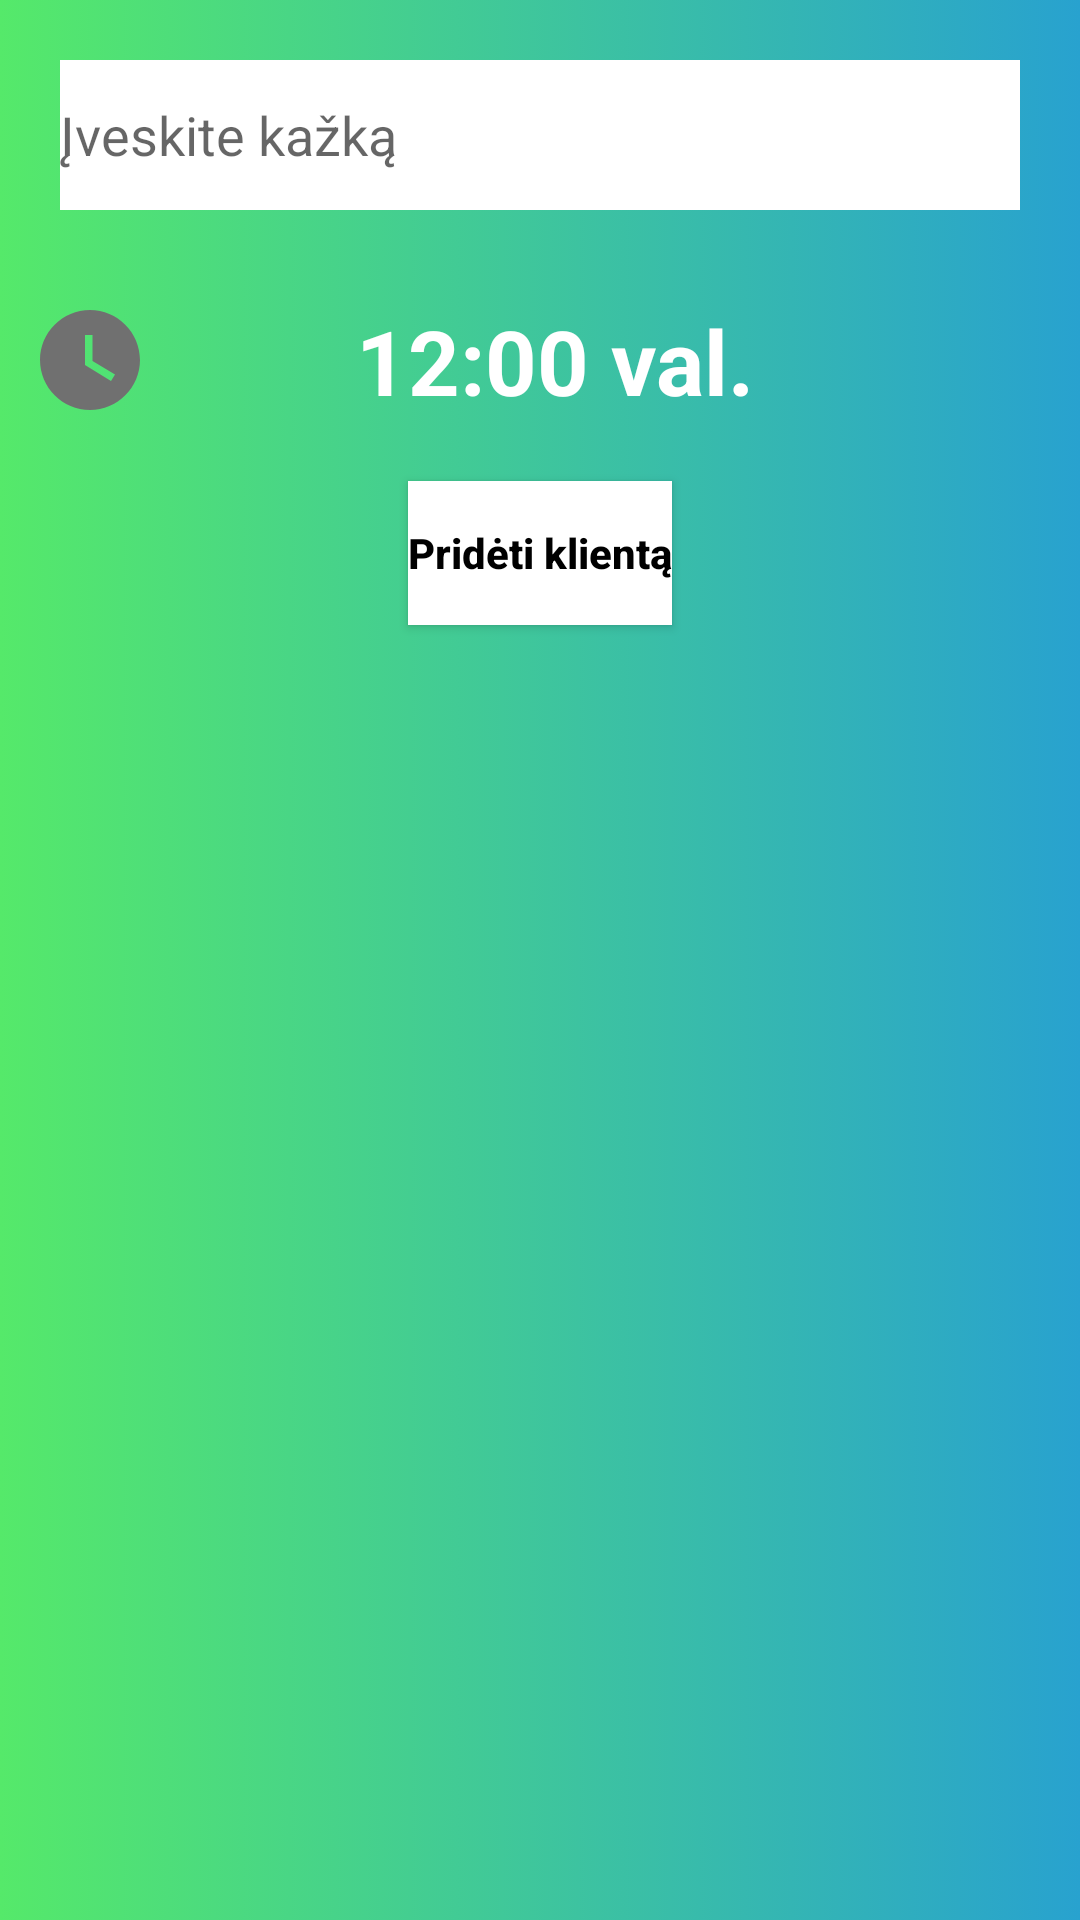

Where icons sit on this 1080px×1920px app screen, as (left=x1, top=y1, right=x2, bottom=y2):
watch: (left=40, top=310, right=140, bottom=410)
